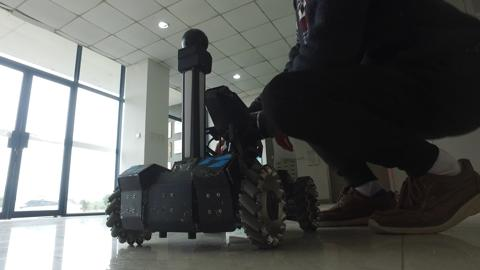chariot: (94, 24, 336, 257)
